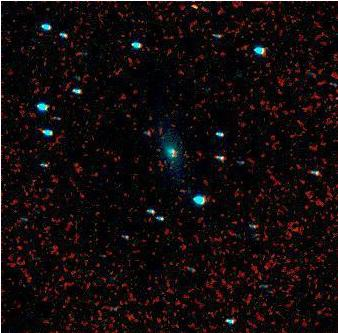star: (179, 0, 209, 21)
